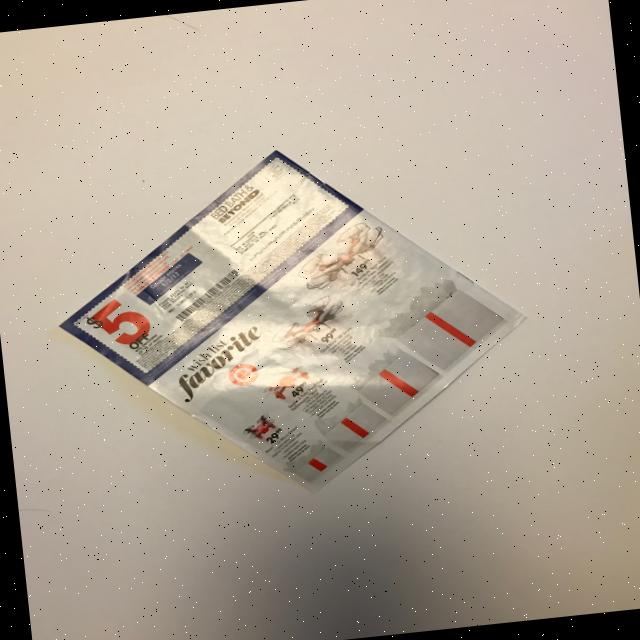paper: (41, 124, 544, 518)
